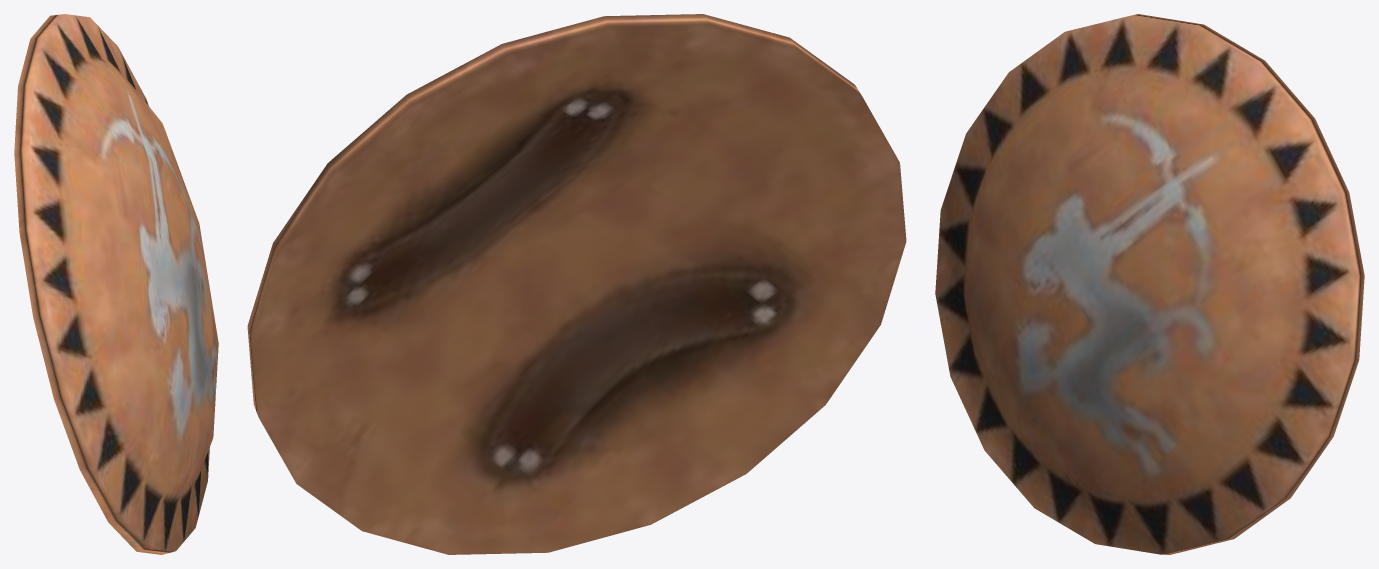
The model's file is rider-shield-slice-bronzeshields.glb.
3 views of the same model, side by side, from view 1: azimuth 30°, elevation 25°; view 2: azimuth 150°, elevation 25°; view 3: azimuth 270°, elevation 25° (orthographic). The views are drawn at different scales.
Size of the model in its own units: 0.34 by 0.4653 by 0.3816.
1 material, 1 textured.
